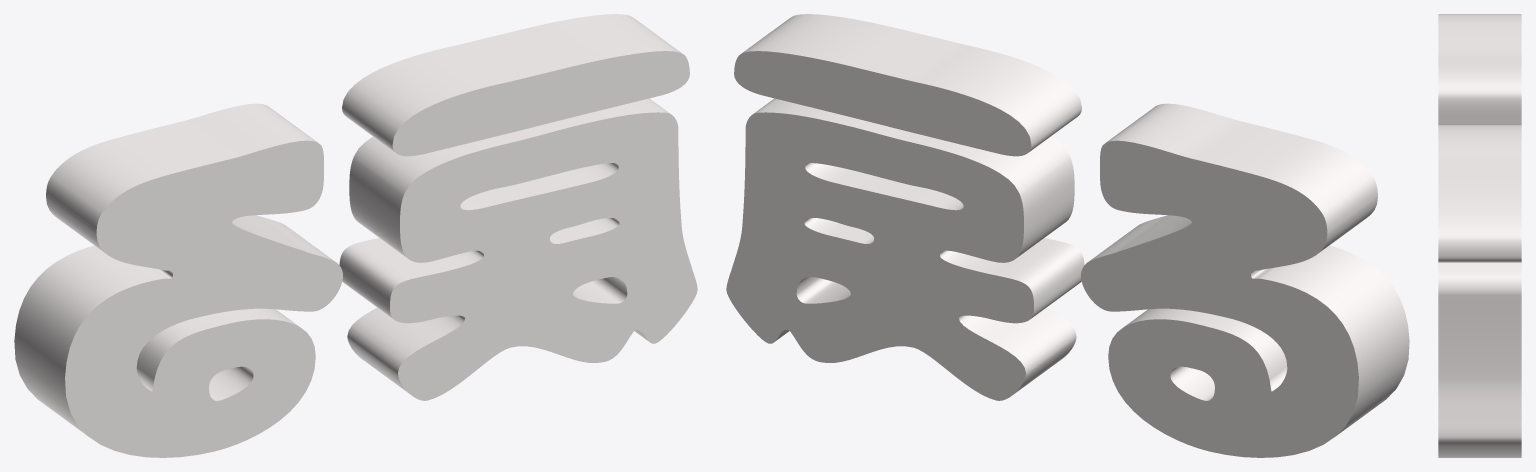
File: return.obj
3 views of the same model, side by side, from view 1: azimuth 30°, elevation 25°; view 2: azimuth 150°, elevation 25°; view 3: azimuth 270°, elevation 25° (orthographic). The views are drawn at different scales.
Visible parts, largest first — view 1: 戻る; view 2: 戻る; view 3: 戻る.
Boxes of the visible parts, x1,y1,x2,y2 form: 戻る: [14, 14, 697, 457]; 戻る: [726, 14, 1409, 457]; 戻る: [1438, 14, 1521, 457].
Size of the model in its own units: 1.44 by 0.6621 by 0.2.
